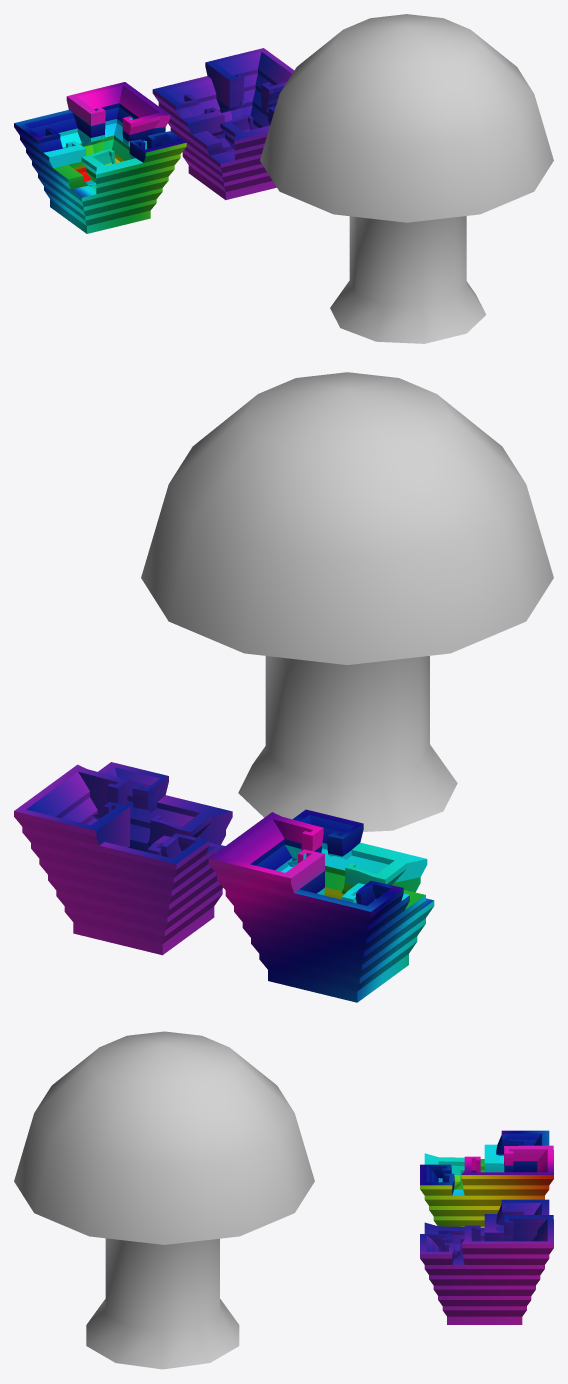
File: CaverneMats.fbx
3 renders of one model, top to bottom at view 1: azimuth 30°, elevation 25°; view 2: azimuth 150°, elevation 25°; view 3: azimuth 270°, elevation 25°, orthographic. The views are drawn at different scales.
Parts seen in each view (by area): view 1: Champignon, BismuthFinalRare, BismuthFinalNormal; view 2: Champignon, BismuthFinalRare, BismuthFinalNormal; view 3: Champignon, BismuthFinalNormal, BismuthFinalRare.
Boxes of the visible parts, x1=… form: Champignon: x1=260, y1=14, x2=553, y2=343; BismuthFinalRare: x1=14, y1=82, x2=186, y2=233; BismuthFinalNormal: x1=152, y1=48, x2=294, y2=200; Champignon: x1=141, y1=372, x2=553, y2=831; BismuthFinalRare: x1=208, y1=809, x2=434, y2=1002; BismuthFinalNormal: x1=14, y1=762, x2=232, y2=955; Champignon: x1=14, y1=1031, x2=314, y2=1369; BismuthFinalNormal: x1=420, y1=1199, x2=553, y2=1324; BismuthFinalRare: x1=420, y1=1130, x2=553, y2=1227.
Bounding box in the file's own units: 51.34 × 41.9 × 70.64.
